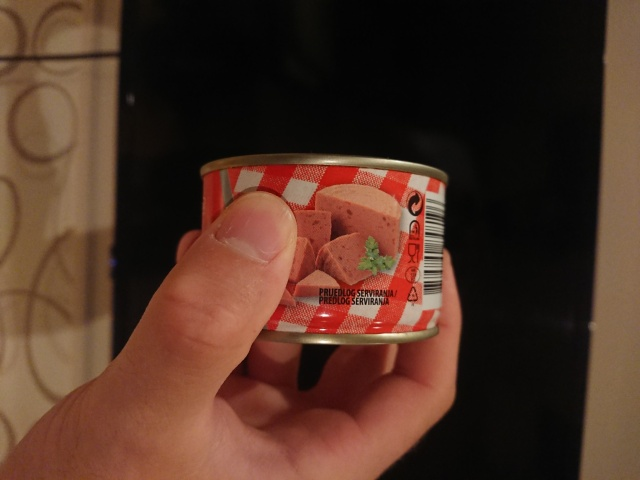Podravka Luncheon Meat 150g: (186, 152, 452, 348)
